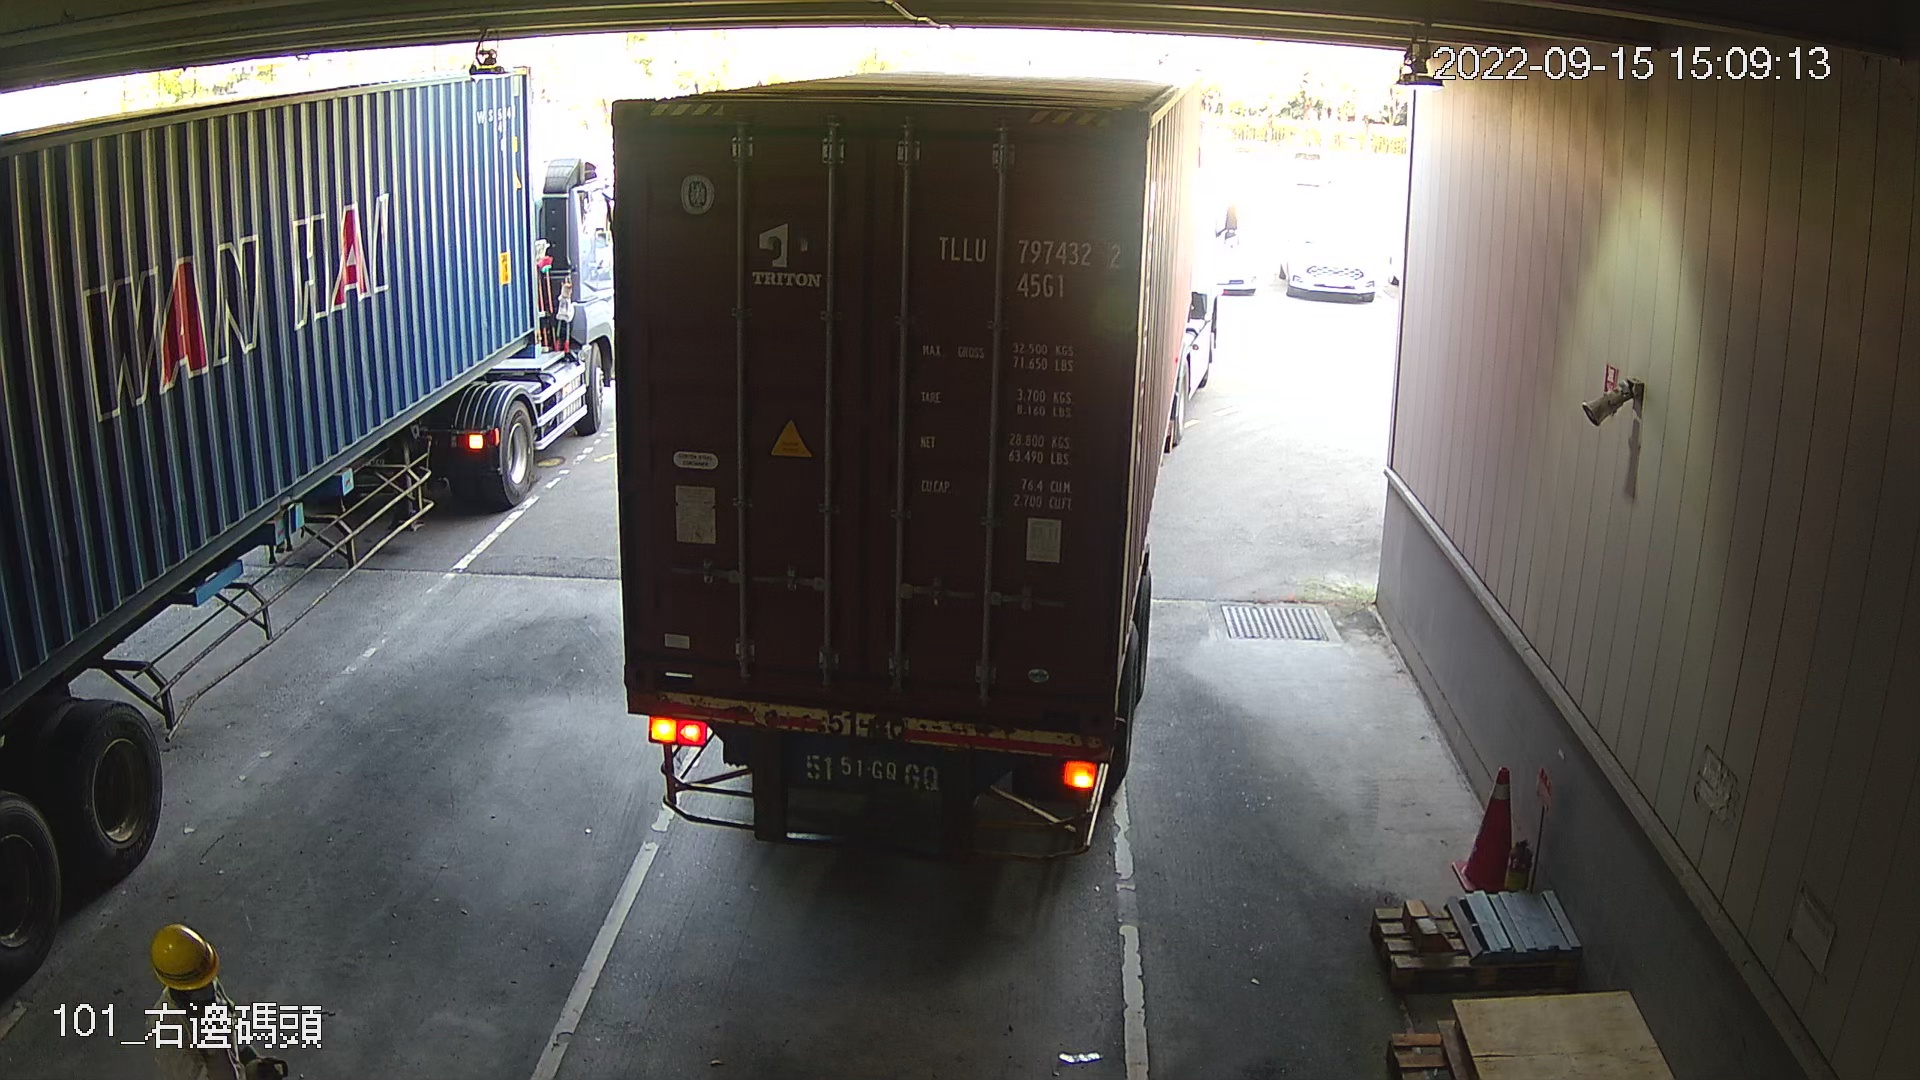container: (928, 224, 1129, 307)
